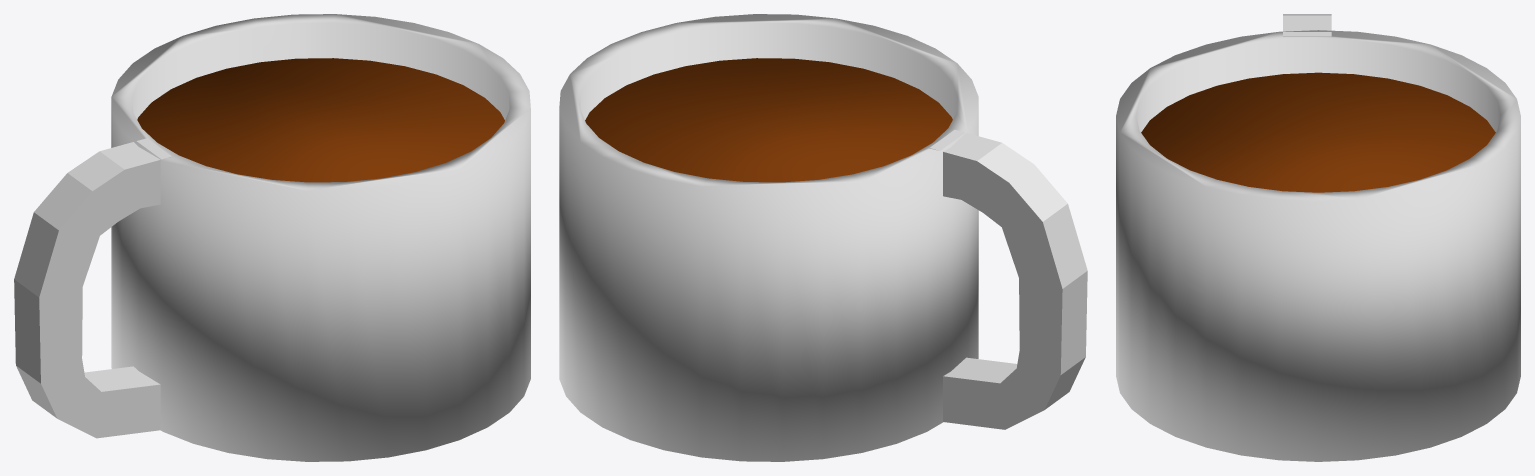
The model's file is coffie hoaldable.fbx.
The picture shows the model from 3 angles, left to right: view 1: azimuth 30°, elevation 25°; view 2: azimuth 150°, elevation 25°; view 3: azimuth 270°, elevation 25°; orthographic projection. The views are drawn at different scales.
Parts seen in each view (by area): view 1: Cube; view 2: Cube; view 3: Cube.
Part boxes in pixels (x1,y1,x2,y2): Cube: (14, 14, 530, 461); Cube: (559, 14, 1087, 461); Cube: (1116, 14, 1520, 461).
Size of the model in its own units: 237 by 127 by 179.
